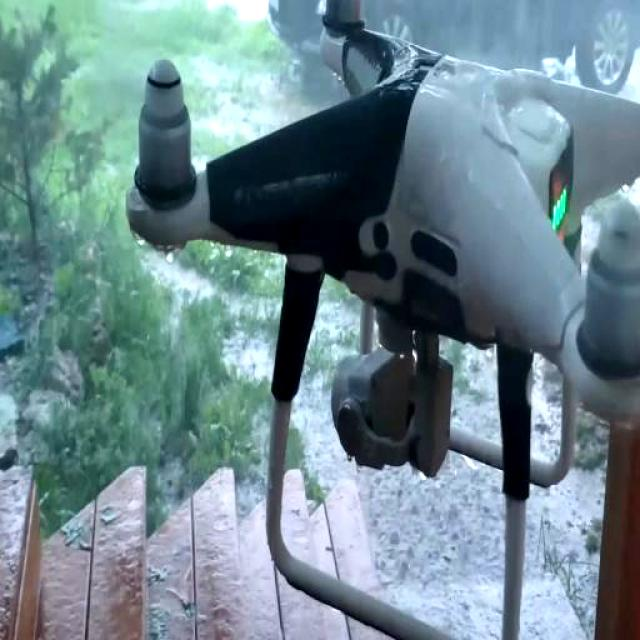bird: (114, 0, 640, 640)
